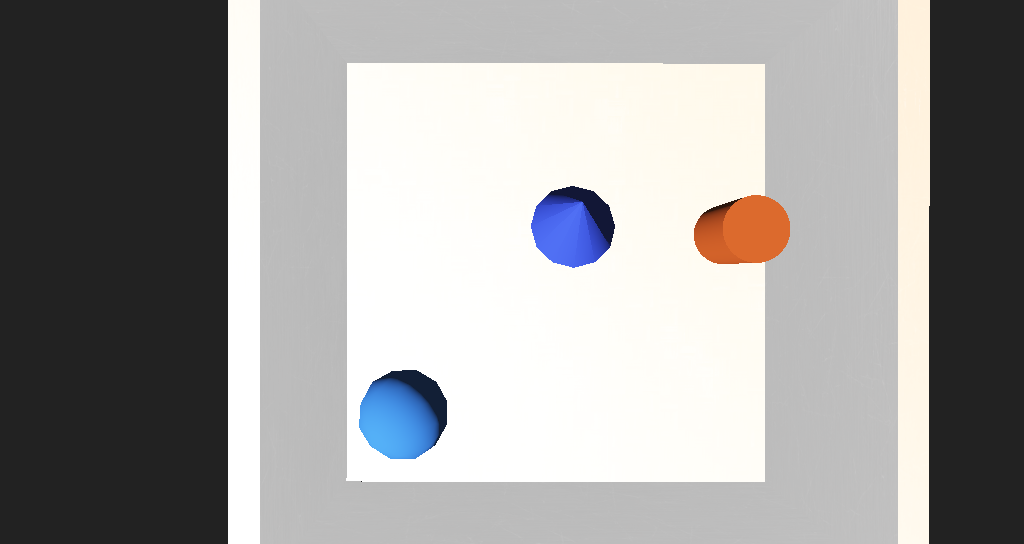cone: (606, 231, 660, 265)
cylinder: (485, 212, 552, 265)
sphere: (367, 315, 428, 363)
